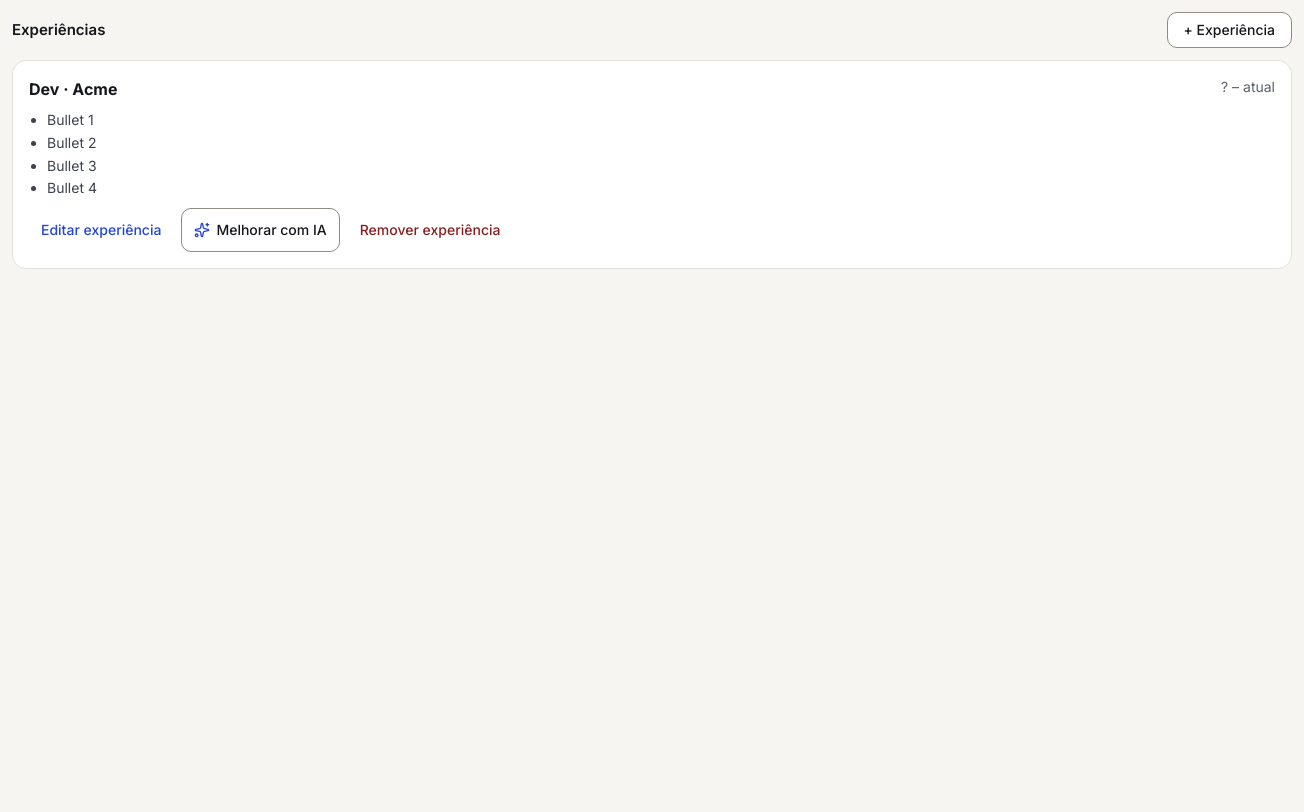
Test: estrela de destaque › alterna o id em highlights com aria-pressed
The width and height of the screenshot is (1304, 812).
Later steps or results of the test are not shown.
What coordinates should you click on to do the following:
click the button "Editar experiência"
I would click on:
 (101, 230)
Its box is [29, 208, 173, 252].
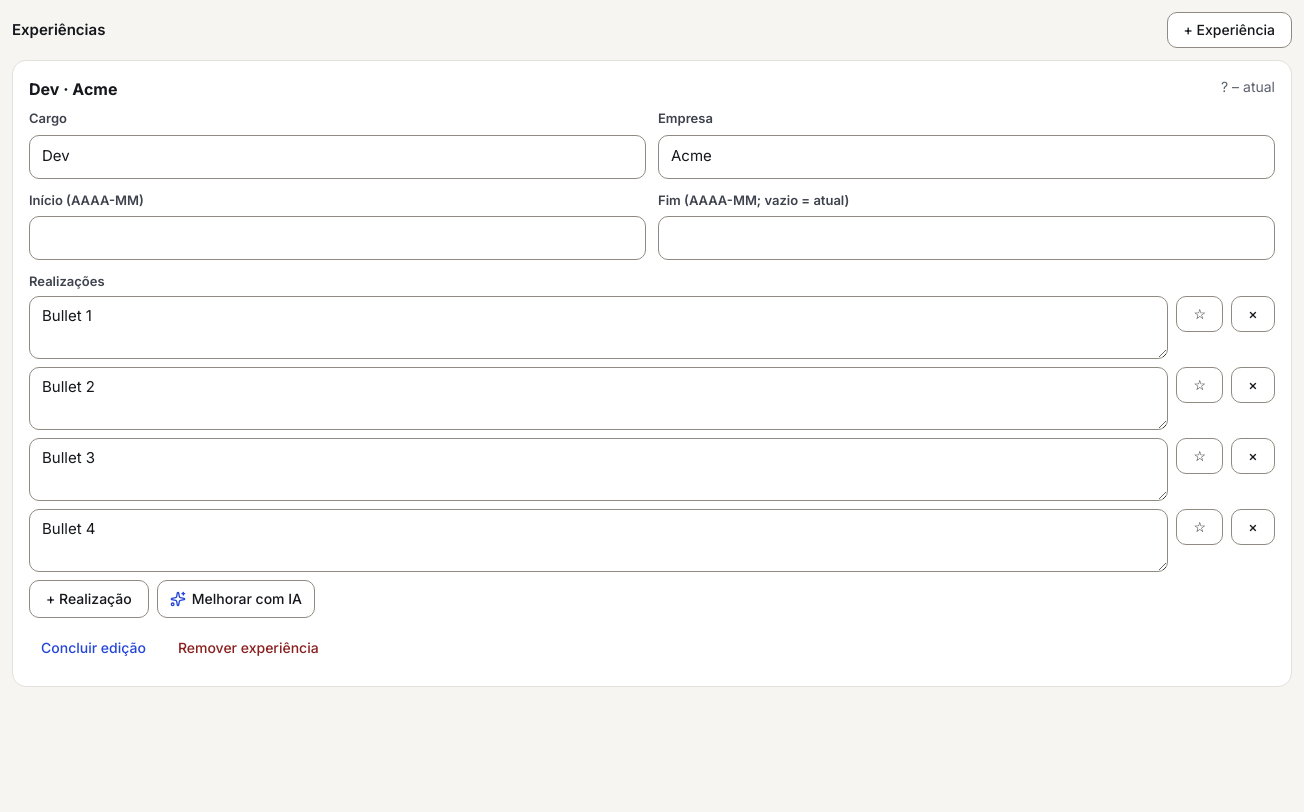
What coordinates should you click on to do the following:
click the button named "Destacar no CV"
I would click on:
 (1200, 314)
Its box is [1176, 296, 1223, 332].
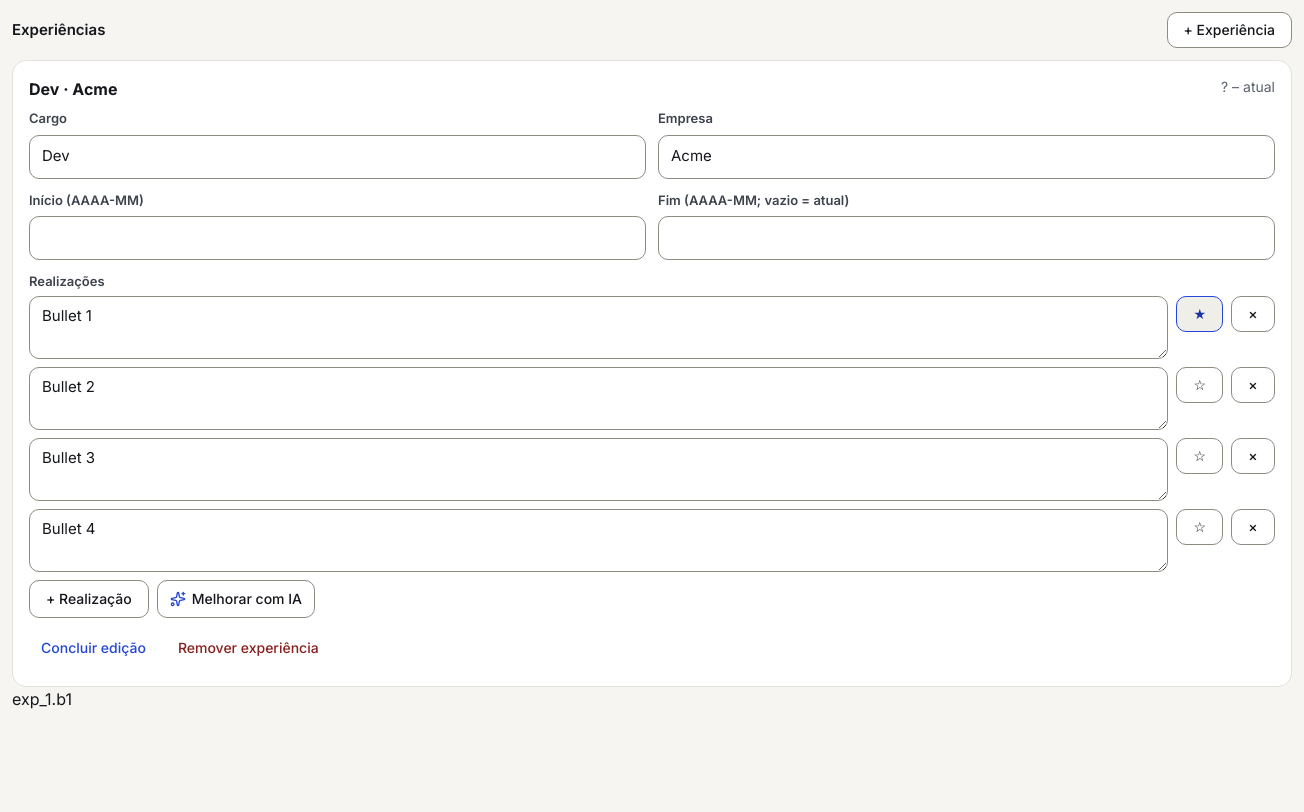
Expected: the text with test id "hl" reads "exp_1.b1", [12, 688, 72, 708]
